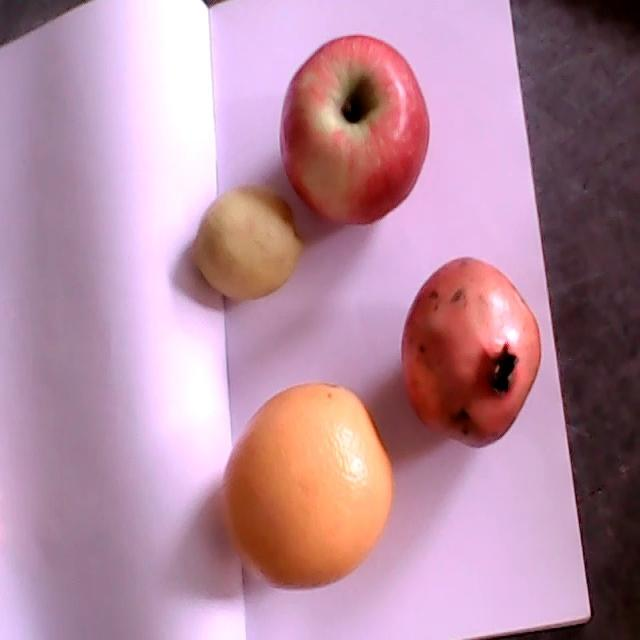apple: (278, 33, 432, 226)
lemon: (187, 184, 304, 299)
orange: (220, 384, 392, 589)
pomegranate: (401, 256, 541, 448)
